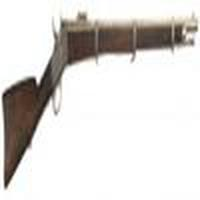gun: (1, 11, 199, 171)
